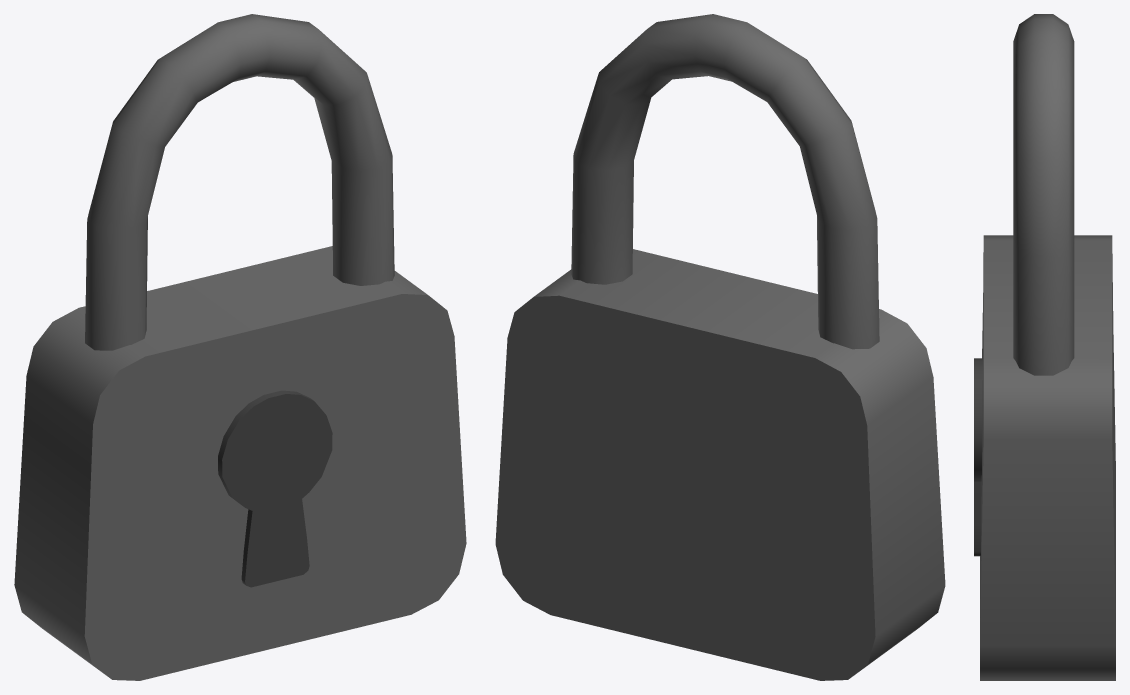
The model's file is Lock_1.fbx.
The picture shows the model from 3 angles, left to right: view 1: azimuth 30°, elevation 25°; view 2: azimuth 150°, elevation 25°; view 3: azimuth 270°, elevation 25°; orthographic projection. The views are drawn at different scales.
Parts seen in each view (by area): view 1: Lock_1; view 2: Lock_1; view 3: Lock_1.
Part boxes in pixels (left/top/right/bottom): Lock_1: left=14, top=14, right=466, bottom=680; Lock_1: left=495, top=14, right=945, bottom=680; Lock_1: left=974, top=14, right=1115, bottom=680.
Bounding box in the file's own units: 0.1049 × 0.1582 × 0.0349.
